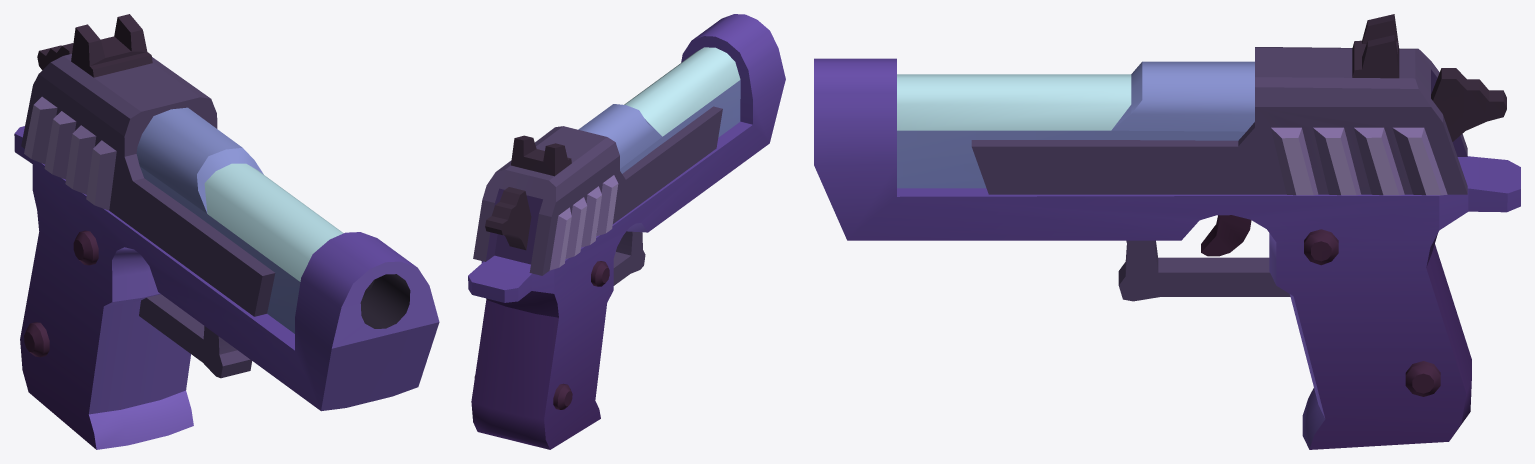
Rendered from PISTOL.fbx.
3 renders of one model, left to right at view 1: azimuth 30°, elevation 25°; view 2: azimuth 150°, elevation 25°; view 3: azimuth 270°, elevation 25°, orthographic. The views are drawn at different scales.
Parts seen in each view (by area): view 1: Pistol; view 2: Pistol; view 3: Pistol.
Boxes of the visible parts, x1,y1,x2,y2 form: Pistol: (14, 14, 439, 449); Pistol: (468, 14, 785, 449); Pistol: (814, 14, 1520, 449).
Bounding box in the file's own units: 0.2695 × 0.8241 × 1.33.
Materials: 1 (1 with a texture image).
